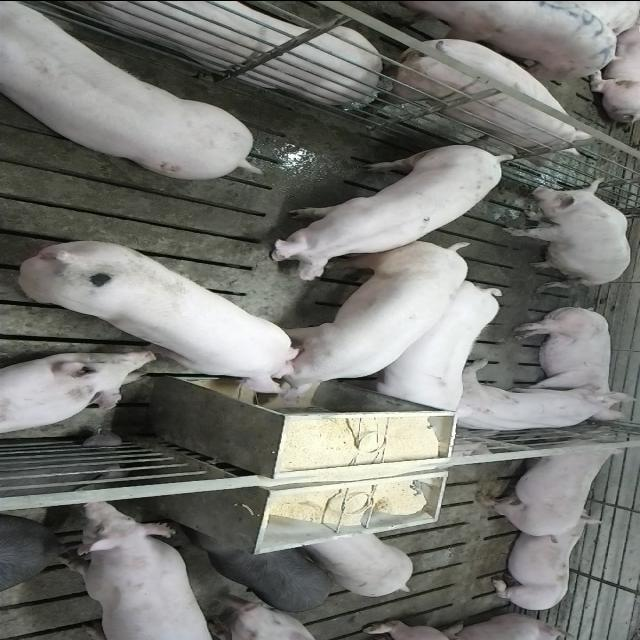Feeding: (15, 237, 306, 401), (256, 236, 474, 408)
Lateral_lying: (508, 304, 624, 394)
Sitting: (500, 178, 632, 286), (445, 368, 629, 434)
Standing: (1, 0, 257, 176), (257, 140, 511, 276), (363, 28, 599, 160), (57, 500, 226, 639), (362, 0, 612, 81), (366, 278, 508, 414), (474, 433, 632, 540), (185, 530, 336, 610), (300, 530, 414, 596), (2, 513, 56, 598)
Sternal_lying: (0, 349, 156, 436), (486, 516, 604, 612)
